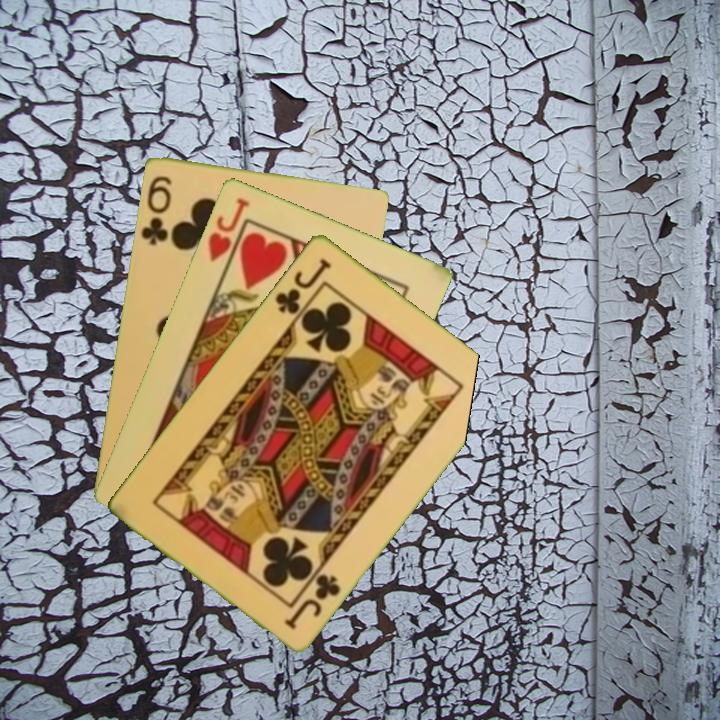6c: (137, 171, 175, 248)
Jc: (280, 569, 344, 632), (271, 254, 334, 317)
Jh: (204, 194, 252, 275)
